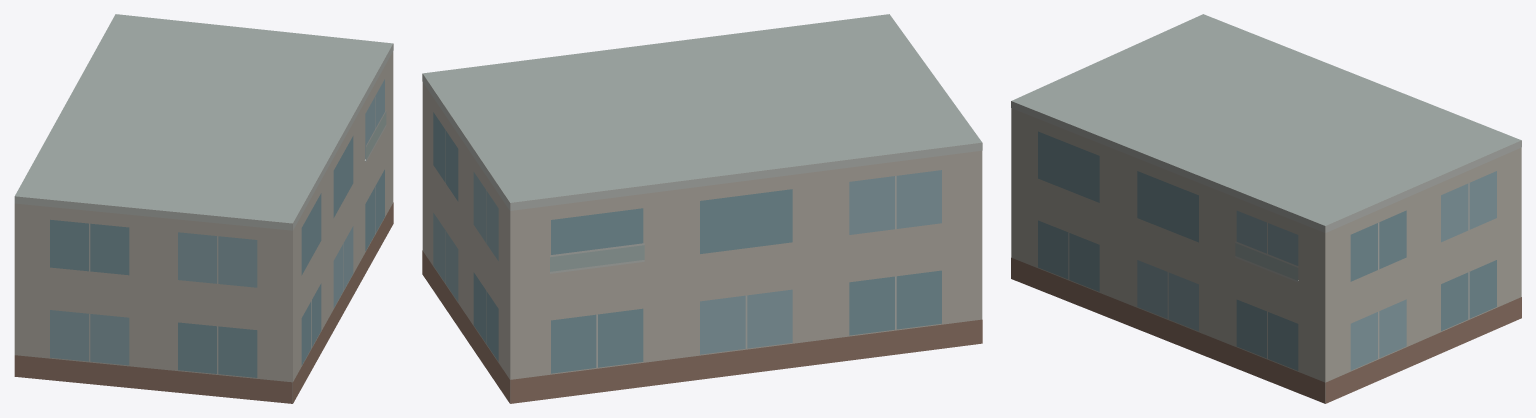
Rendered from survey-upis-32715870.glb.
3 renders of one model, left to right at view 1: azimuth 30°, elevation 25°; view 2: azimuth 150°, elevation 25°; view 3: azimuth 270°, elevation 25°, orthographic. The views are drawn at different scales.
Visible parts, largest first — view 1: survey-upis-32715870.tmp; view 2: survey-upis-32715870.tmp; view 3: survey-upis-32715870.tmp.
Part boxes in pixels (left/top/right/bottom): survey-upis-32715870.tmp: left=14, top=14, right=393, bottom=403; survey-upis-32715870.tmp: left=422, top=14, right=982, bottom=403; survey-upis-32715870.tmp: left=1011, top=14, right=1521, bottom=403.
Size of the model in its own units: 15.61 by 6.1 by 15.88.
